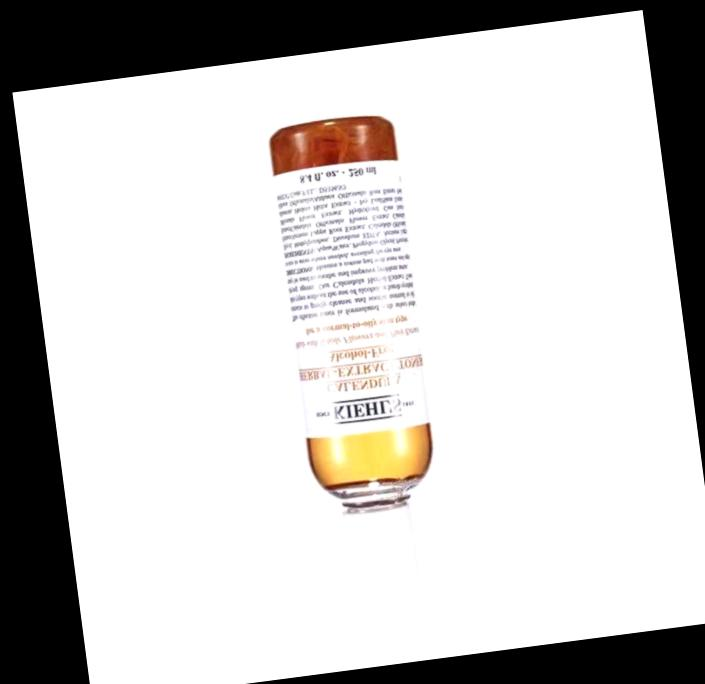cosmetic: (267, 109, 452, 599)
